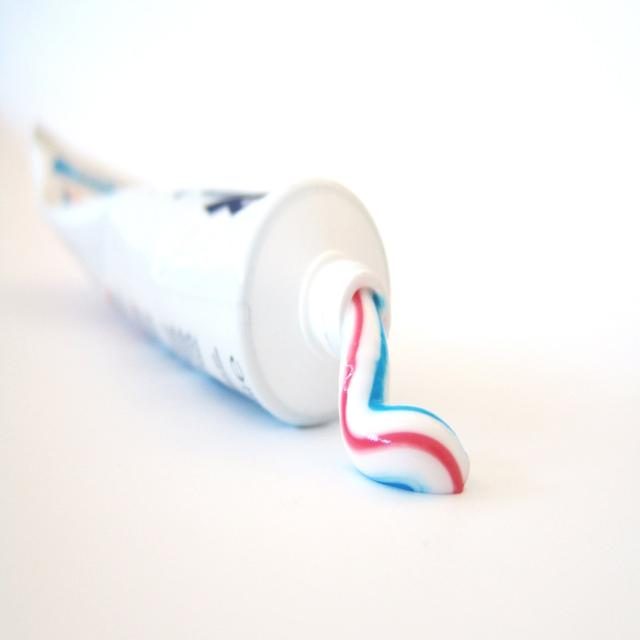toothpaste: (17, 93, 395, 431)
